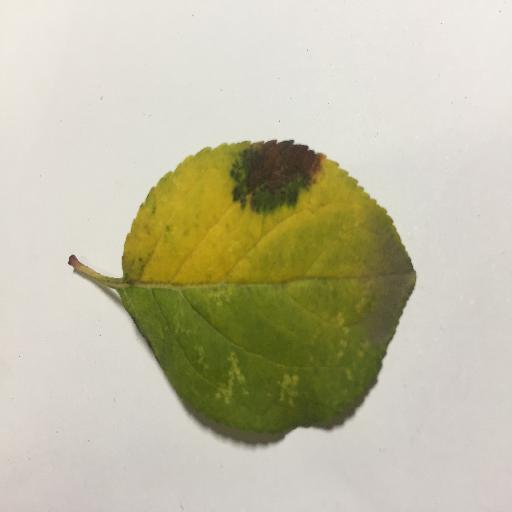Brown_Spot: (225, 144, 314, 206)
